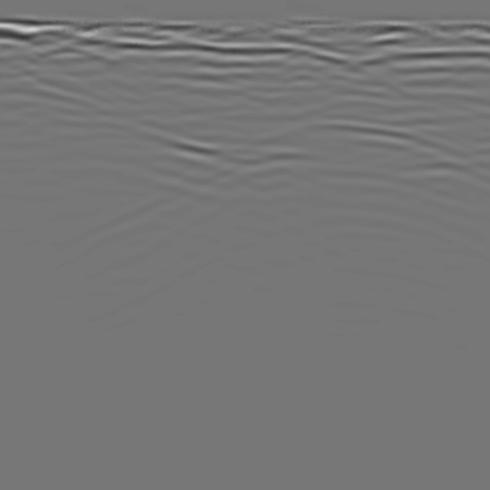hyperbola: (199, 109, 470, 211)
